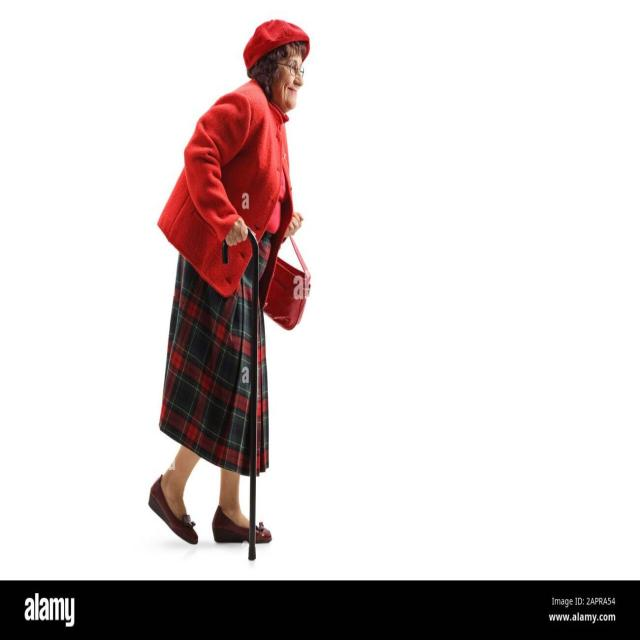idoso em pe: (142, 13, 318, 559)
